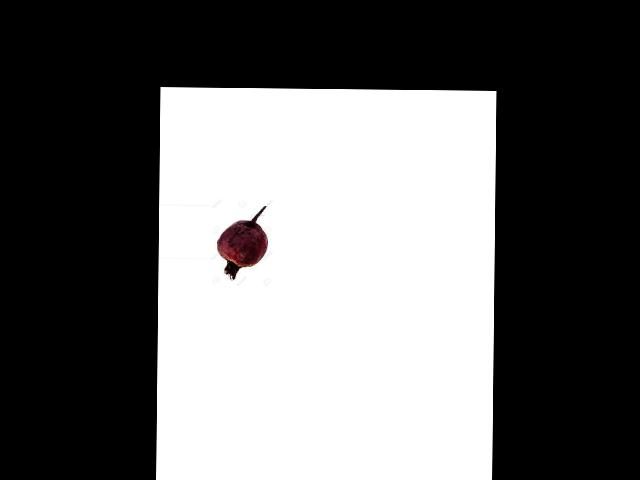beet: (217, 206, 268, 280)
